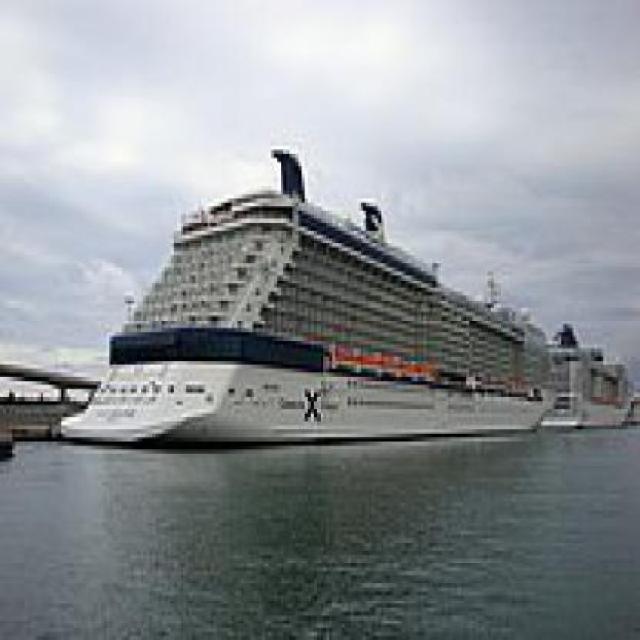cruise: (59, 130, 568, 463)
